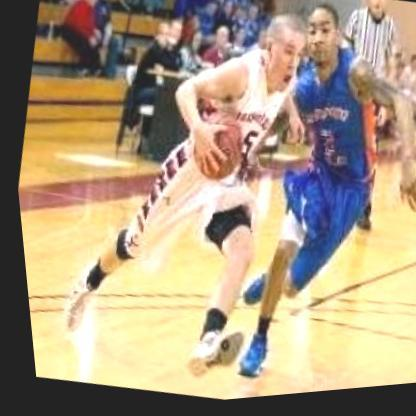basketball: (179, 107, 250, 193)
